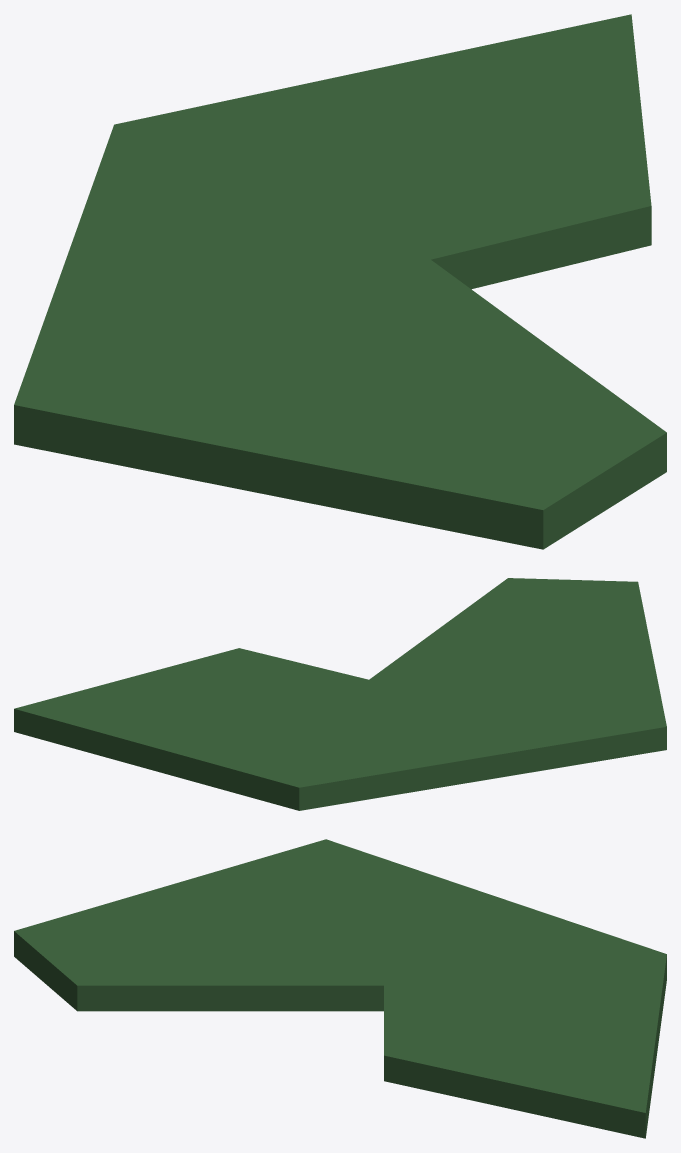
Rendered from x_proval_00_12_1_rmstrd.fbx.
3 views of the same model, one above another, from view 1: azimuth 30°, elevation 25°; view 2: azimuth 150°, elevation 25°; view 3: azimuth 270°, elevation 25° (orthographic). The views are drawn at different scales.
Visible parts, largest first — view 1: x_proval_00_12_1_rmstrd1; view 2: x_proval_00_12_1_rmstrd1; view 3: x_proval_00_12_1_rmstrd1.
Part boxes in pixels (box(x1,y1,x2,y2)): x_proval_00_12_1_rmstrd1: box(14, 14, 666, 549); x_proval_00_12_1_rmstrd1: box(14, 578, 666, 810); x_proval_00_12_1_rmstrd1: box(14, 839, 666, 1138).
Bounding box in the file's own units: 4.58 × 0.2 × 4.61.
